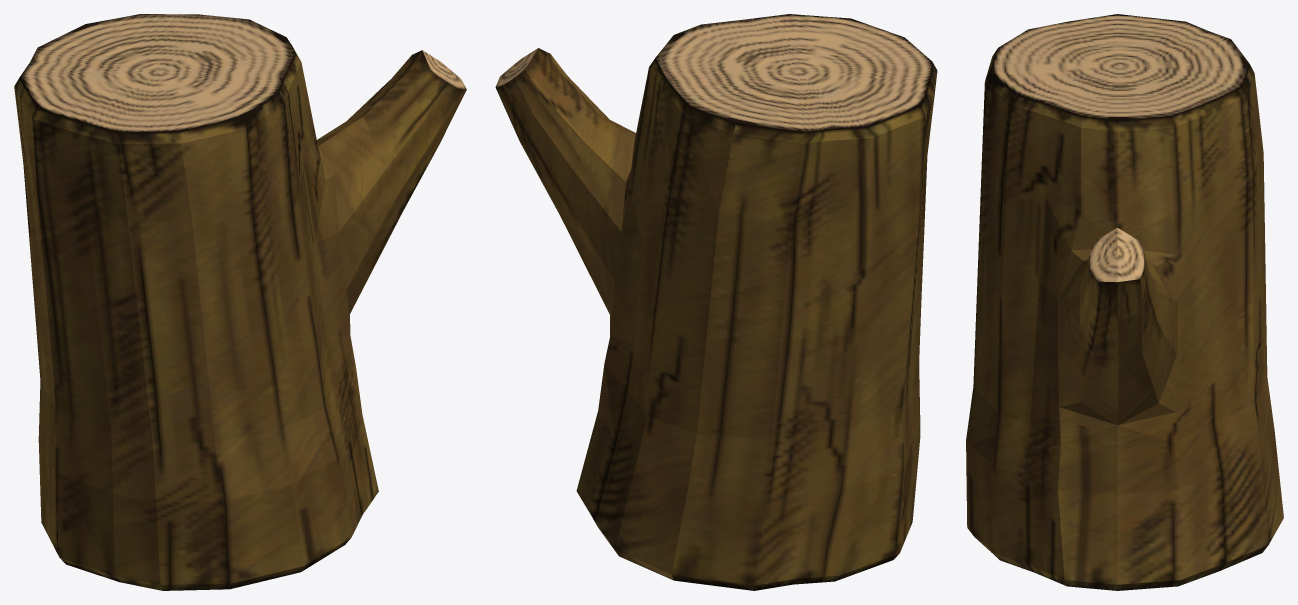
File: Wood.fbx
3 views of the same model, side by side, from view 1: azimuth 30°, elevation 25°; view 2: azimuth 150°, elevation 25°; view 3: azimuth 270°, elevation 25° (orthographic). The views are drawn at different scales.
Parts seen in each view (by area): view 1: SM_EFF_Tree_01.mo; view 2: SM_EFF_Tree_01.mo; view 3: SM_EFF_Tree_01.mo.
Boxes of the visible parts, x1=… form: SM_EFF_Tree_01.mo: x1=14, y1=14, x2=466, y2=590; SM_EFF_Tree_01.mo: x1=495, y1=14, x2=937, y2=590; SM_EFF_Tree_01.mo: x1=966, y1=14, x2=1283, y2=590.
Bounding box in the file's own units: 75.64 × 79.98 × 50.94.
